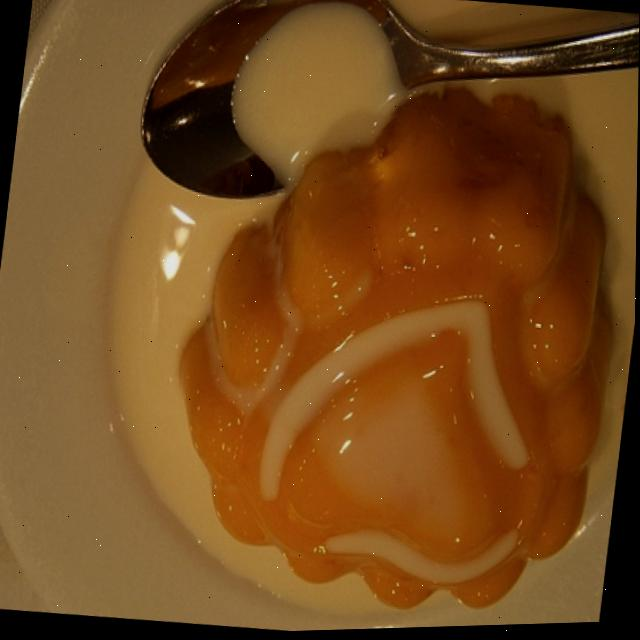蛋糕甜品: (57, 0, 640, 639)
